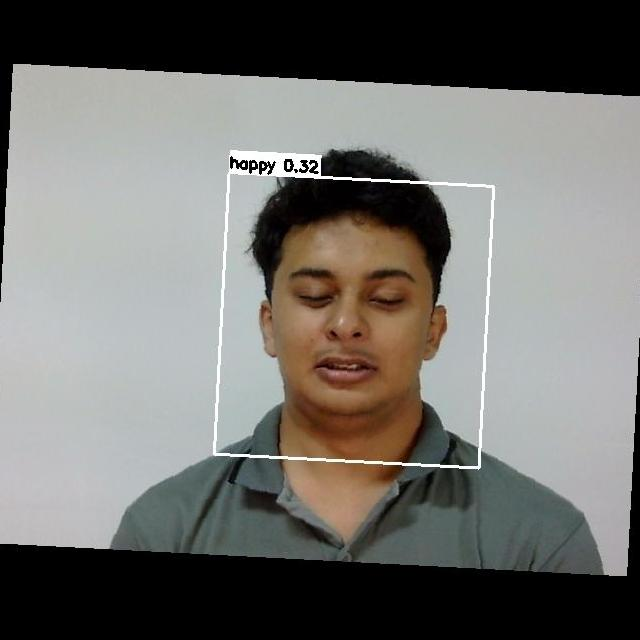Fear: (271, 241, 426, 395)
